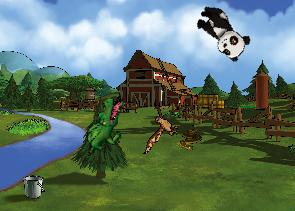crocodile: (85, 96, 124, 157)
eagle: (142, 107, 178, 154)
panda: (189, 0, 254, 64)
